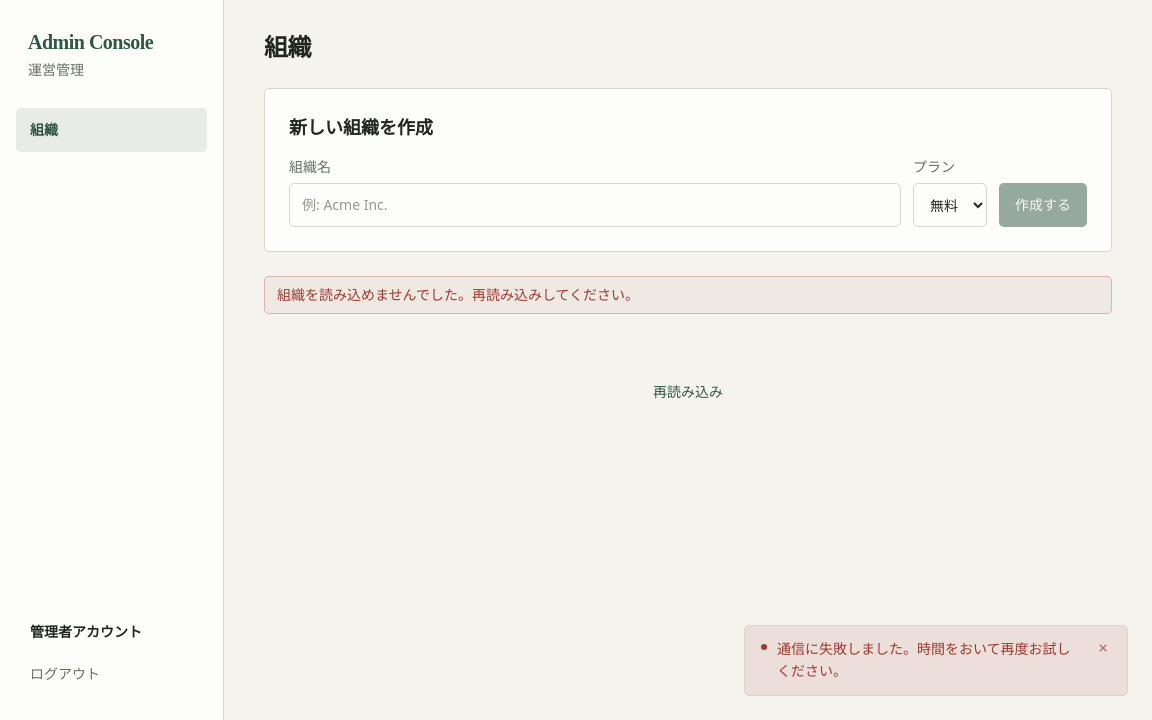
it: admin application routes › navigates to login after logout from an authenticated route
Expected: the heading "組織" is shown, top-left (264, 32), bottom-right (311, 64)
Click the button "ログアウト".
click(65, 674)  # box top-left (30, 652), bottom-right (100, 696)
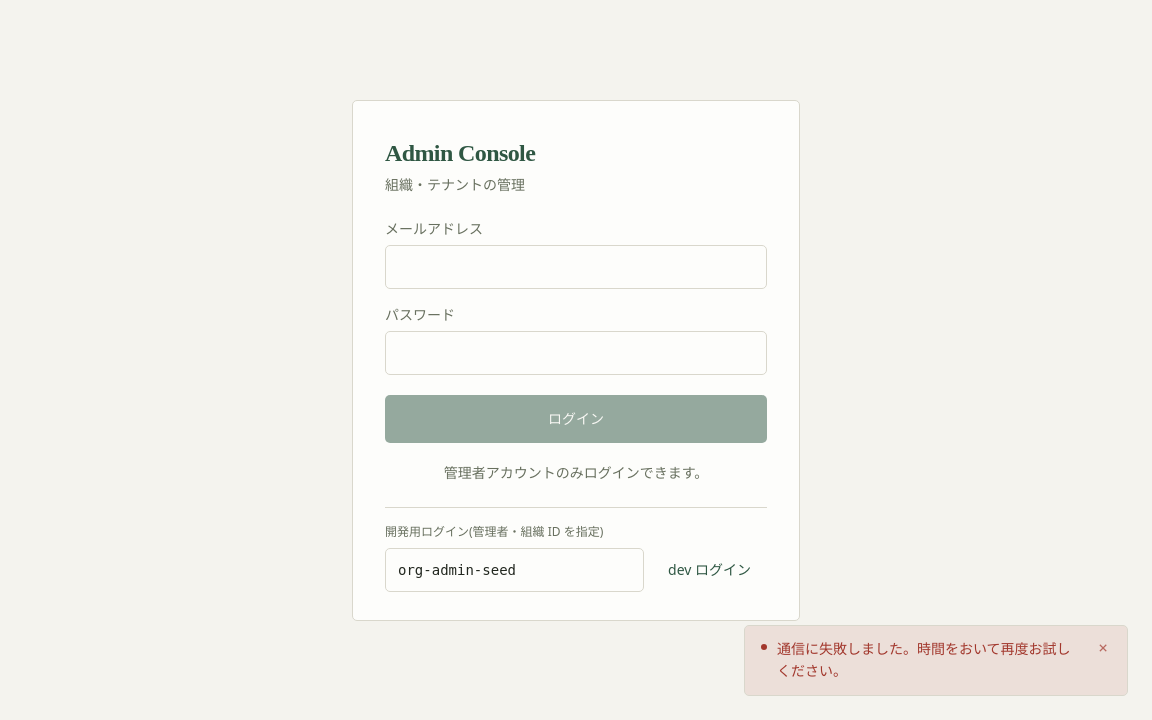
Expected: the button "ログイン" is shown, top-left (385, 394), bottom-right (767, 442)
